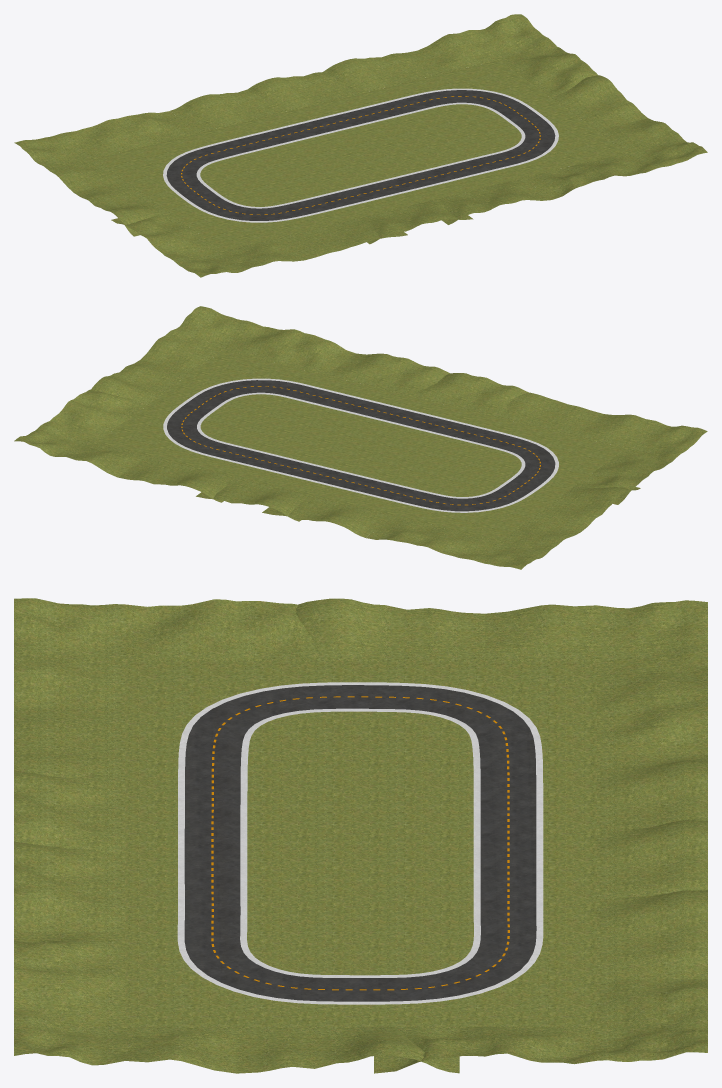
Rendered from Oval_track.dae.
The picture shows the model from 3 angles, top to bottom: view 1: azimuth 30°, elevation 25°; view 2: azimuth 150°, elevation 25°; view 3: azimuth 270°, elevation 25°; orthographic projection. The views are drawn at different scales.
Parts seen in each view (by area): view 1: bg_terrain, field, road, outerLine, innerLine, centerLine; view 2: bg_terrain, field, road, outerLine, innerLine, centerLine; view 3: bg_terrain, field, road, outerLine, innerLine, centerLine.
Boxes of the visible parts, left/top/right/bottom form: bg_terrain: left=14, top=14, right=707, bottom=277; field: left=96, top=60, right=625, bottom=250; road: left=166, top=90, right=555, bottom=220; outerLine: left=163, top=88, right=558, bottom=222; innerLine: left=196, top=102, right=525, bottom=208; centerLine: left=181, top=96, right=540, bottom=214; bg_terrain: left=14, top=306, right=707, bottom=569; field: left=96, top=350, right=625, bottom=541; road: left=167, top=380, right=555, bottom=511; outerLine: left=163, top=378, right=558, bottom=512; innerLine: left=197, top=392, right=525, bottom=498; centerLine: left=181, top=386, right=540, bottom=505; bg_terrain: left=14, top=598, right=707, bottom=1073; field: left=125, top=660, right=596, bottom=1026; road: left=184, top=685, right=536, bottom=1001; outerLine: left=177, top=682, right=543, bottom=1004; innerLine: left=240, top=708, right=480, bottom=977; centerLine: left=211, top=696, right=509, bottom=990.
Size of the model in its own units: 11.93 by 7.61 by 0.2962.
Materials: 6 (6 with a texture image).
